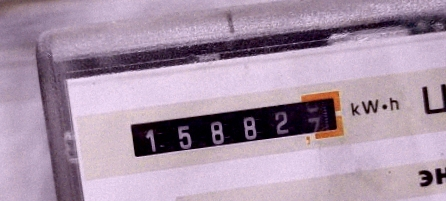1: (141, 124, 159, 154)
2: (271, 107, 291, 137)
5: (173, 121, 194, 150)
7: (304, 113, 322, 132)
8: (206, 117, 225, 147), (240, 112, 258, 142)
screen: (114, 80, 355, 171)
